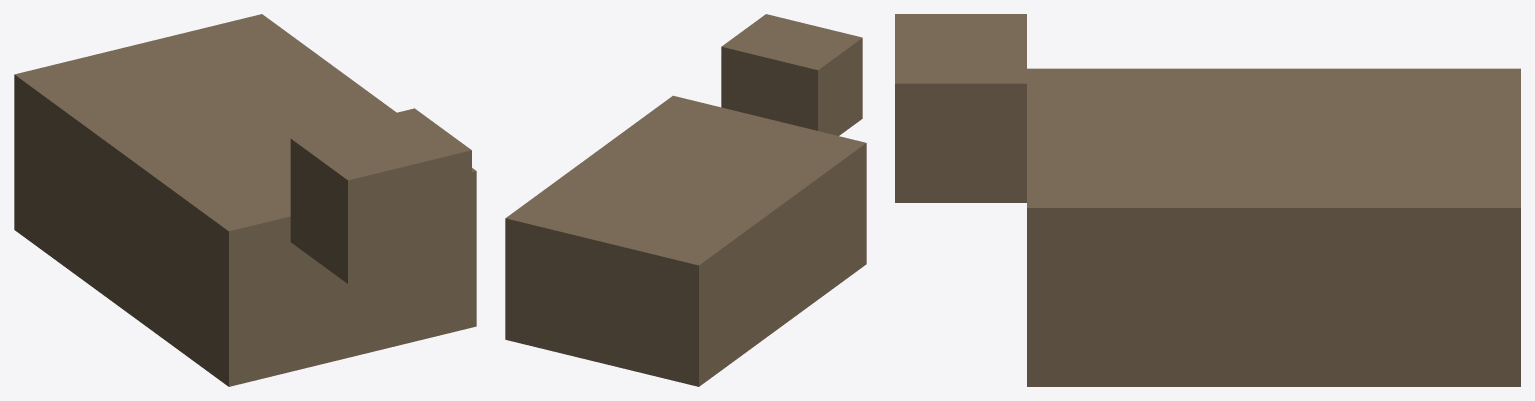
Rendered from bear.bland.fbx.
3 views of the same model, side by side, from view 1: azimuth 30°, elevation 25°; view 2: azimuth 150°, elevation 25°; view 3: azimuth 270°, elevation 25° (orthographic). The views are drawn at different scales.
Parts seen in each view (by area): view 1: Bear_LegBR; view 2: Bear_LegBR; view 3: Bear_LegBR.
Part boxes in pixels (left/top/right/bottom): Bear_LegBR: left=14, top=14, right=476, bottom=386; Bear_LegBR: left=505, top=14, right=866, bottom=386; Bear_LegBR: left=895, top=14, right=1520, bottom=386.
Bounding box in the file's own units: 200 × 180 × 380.
